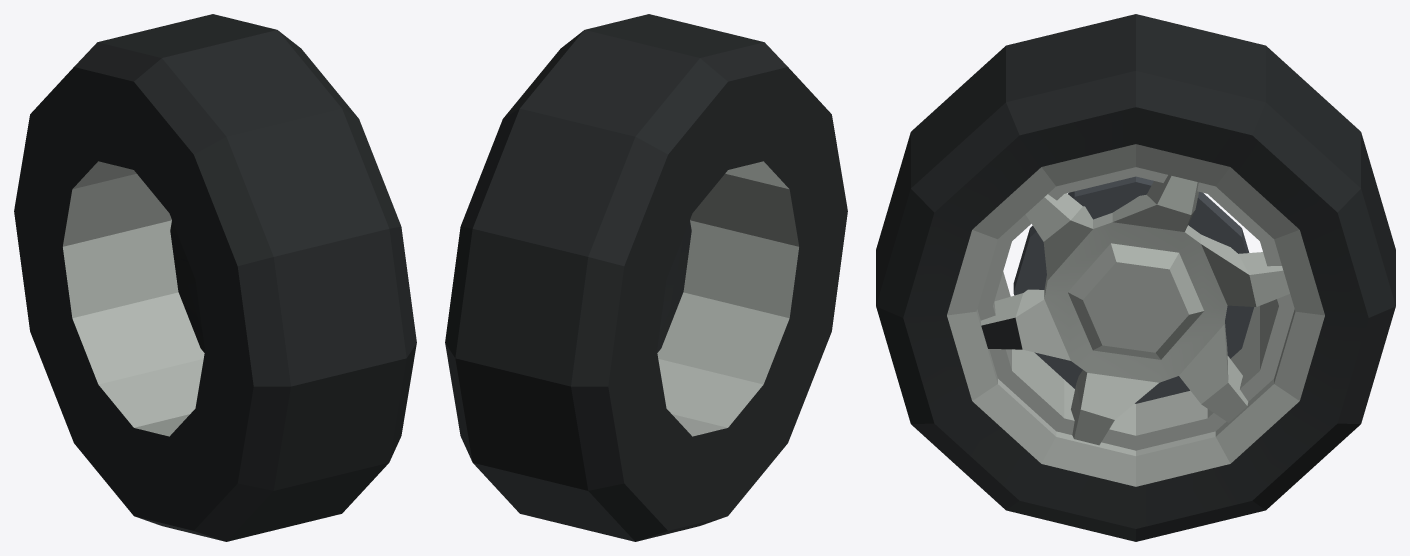
File: SM_Veh_Car_Van_Wheel_rl.obj
3 views of the same model, side by side, from view 1: azimuth 30°, elevation 25°; view 2: azimuth 150°, elevation 25°; view 3: azimuth 270°, elevation 25° (orthographic).
Visible parts, largest first — view 1: SM_Veh_Car_Van_Wheel_rl_0; view 2: SM_Veh_Car_Van_Wheel_rl_0; view 3: SM_Veh_Car_Van_Wheel_rl_0.
Part boxes in pixels (x1,y1,x2,y2): SM_Veh_Car_Van_Wheel_rl_0: (14,14,416,541); SM_Veh_Car_Van_Wheel_rl_0: (445,14,847,541); SM_Veh_Car_Van_Wheel_rl_0: (876,14,1395,541).
Bounding box in the file's own units: 0.2978 × 0.7952 × 0.7952.
1 material, 1 textured.
